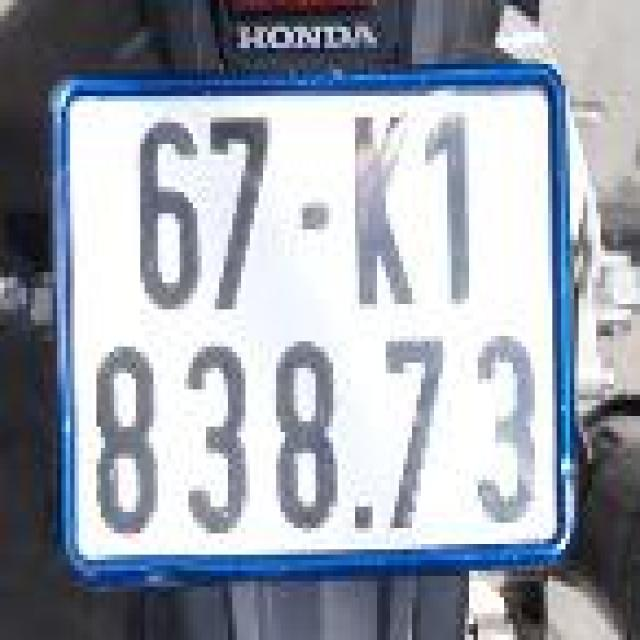1: (421, 102, 491, 310)
3: (469, 320, 548, 533), (182, 336, 252, 544)
6: (129, 112, 204, 315)
7: (374, 328, 454, 547), (210, 101, 280, 320)
8: (261, 325, 344, 539), (92, 336, 167, 539)
K: (333, 107, 417, 309)
